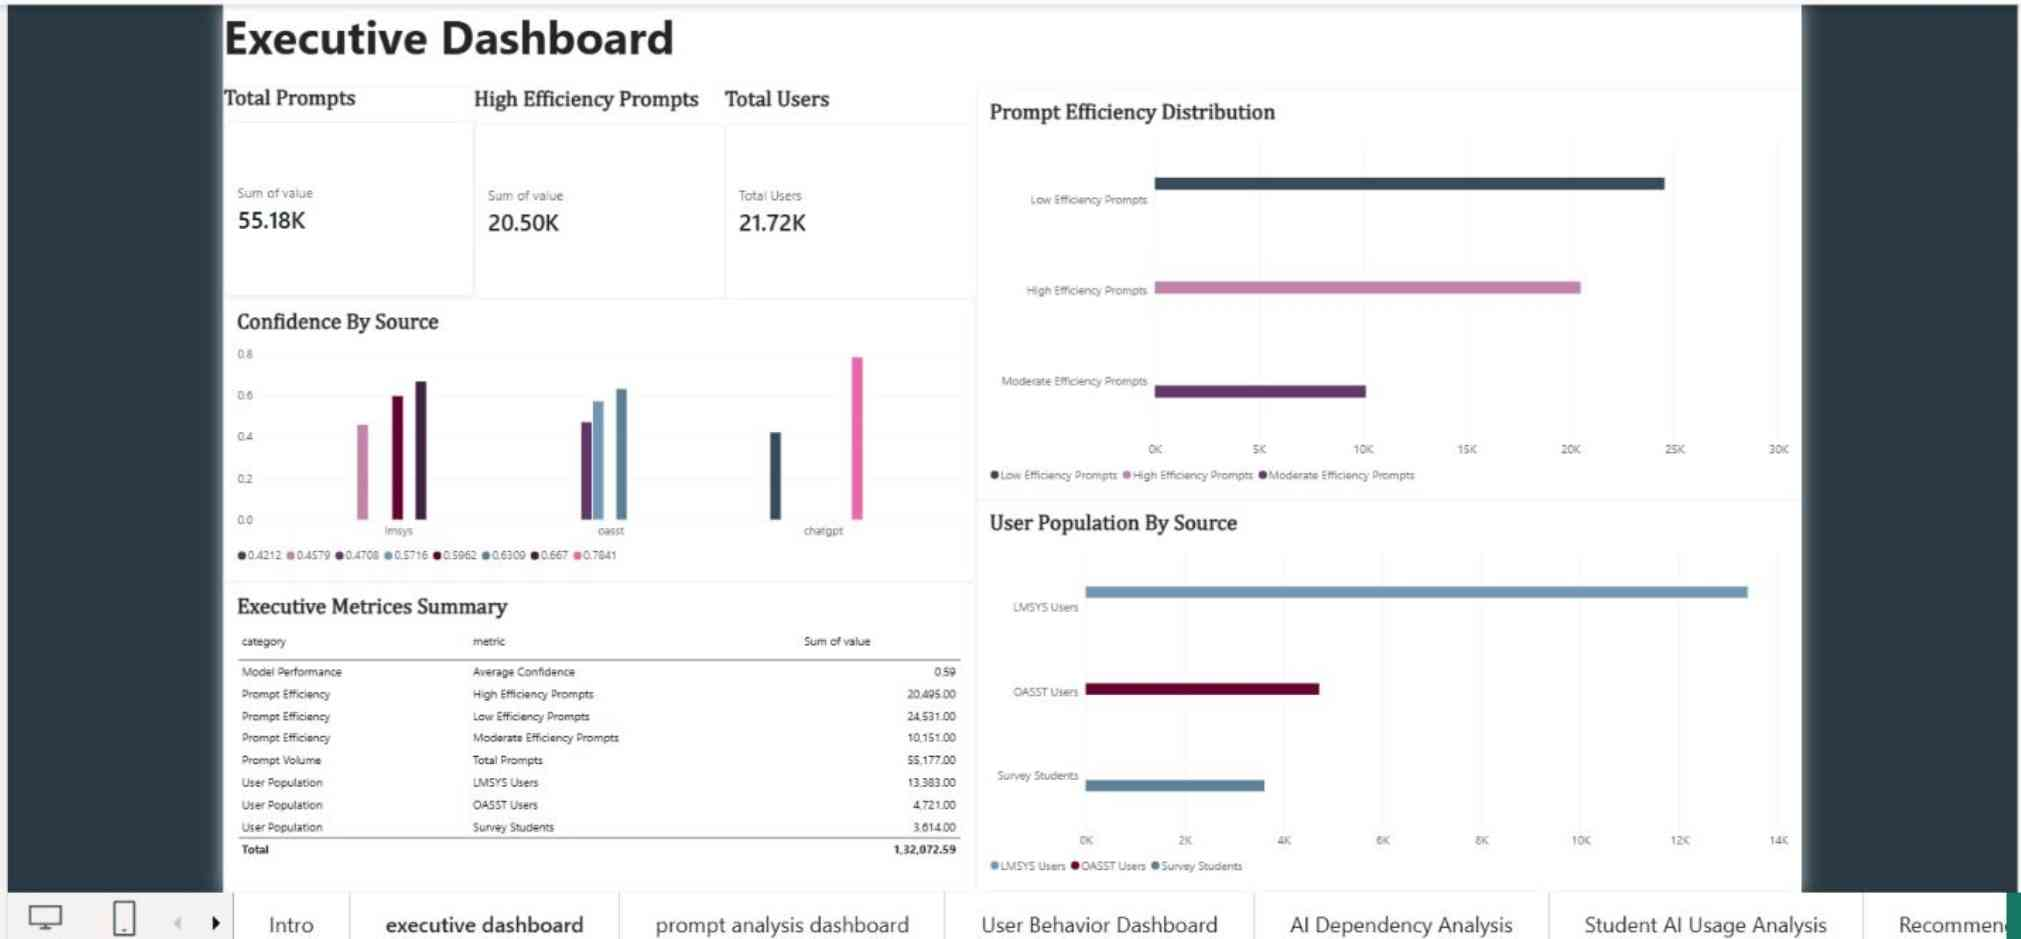

This screenshot's page, from the dashboard's own definition file:
{"tool":"powerbi","page":{"name":"executive dashboard","canvas":[1920,1080],"ordinal":1},"visuals":[{"type":"textbox","box":[0,0,717.5,100],"z":0},{"type":"cardVisual","title":"Total Prompts","fields":{"Data":["Sum(v_executive_summary.value)"]},"box":[0,99.2,306.1,258],"z":1000},{"type":"cardVisual","title":"Total Users","fields":{"Data":["v_confidence_analysis.Total Users"]},"box":[610,100,306.1,258],"z":2000},{"type":"cardVisual","title":"High Efficiency Prompts ","fields":{"Data":["Sum(v_executive_summary.value)"]},"box":[305,100,306,258],"z":3000},{"type":"clusteredBarChart","title":"Prompt Efficiency Distribution","fields":{"Category":["v_executive_summary.metric"],"Y":["Sum(v_executive_summary.value)"],"Series":["v_executive_summary.metric"]},"box":[915,100,1005,502.5],"z":4000},{"type":"tableEx","title":"Executive Metrices Summary","fields":{"Values":["v_executive_summary.category","v_executive_summary.metric","Sum(v_executive_summary.value)"]},"box":[0,702.5,915,377.5],"z":5000},{"type":"clusteredBarChart","title":"User Population By Source","fields":{"Category":["v_executive_summary.metric"],"Y":["Sum(v_executive_summary.value)"],"Series":["v_executive_summary.metric"]},"box":[915,602.5,1005,477.5],"z":6000},{"type":"clusteredColumnChart","title":"Confidence By Source","fields":{"Category":["v_confidence_analysis.source"],"Y":["Sum(v_confidence_analysis.avg_confidence)"],"Series":["Total Users.avg_confidence"]},"box":[0,357.5,915,345],"z":7000}]}

Visuals, with their boxes on the page's 1920x1080 design canvas (x1, y1, x2, y2). These are canvas units, not pixel positions in the 2021x939 screenshot, which may show the page scaled, cropped or inside an application window:
textbox: x1=0, y1=0, x2=718, y2=100
"Total Prompts" cardVisual: x1=0, y1=99, x2=306, y2=357
"Total Users" cardVisual: x1=610, y1=100, x2=916, y2=358
"High Efficiency Prompts " cardVisual: x1=305, y1=100, x2=611, y2=358
"Prompt Efficiency Distribution" clusteredBarChart: x1=915, y1=100, x2=1920, y2=602
"Executive Metrices Summary" tableEx: x1=0, y1=702, x2=915, y2=1080
"User Population By Source" clusteredBarChart: x1=915, y1=602, x2=1920, y2=1080
"Confidence By Source" clusteredColumnChart: x1=0, y1=358, x2=915, y2=702
